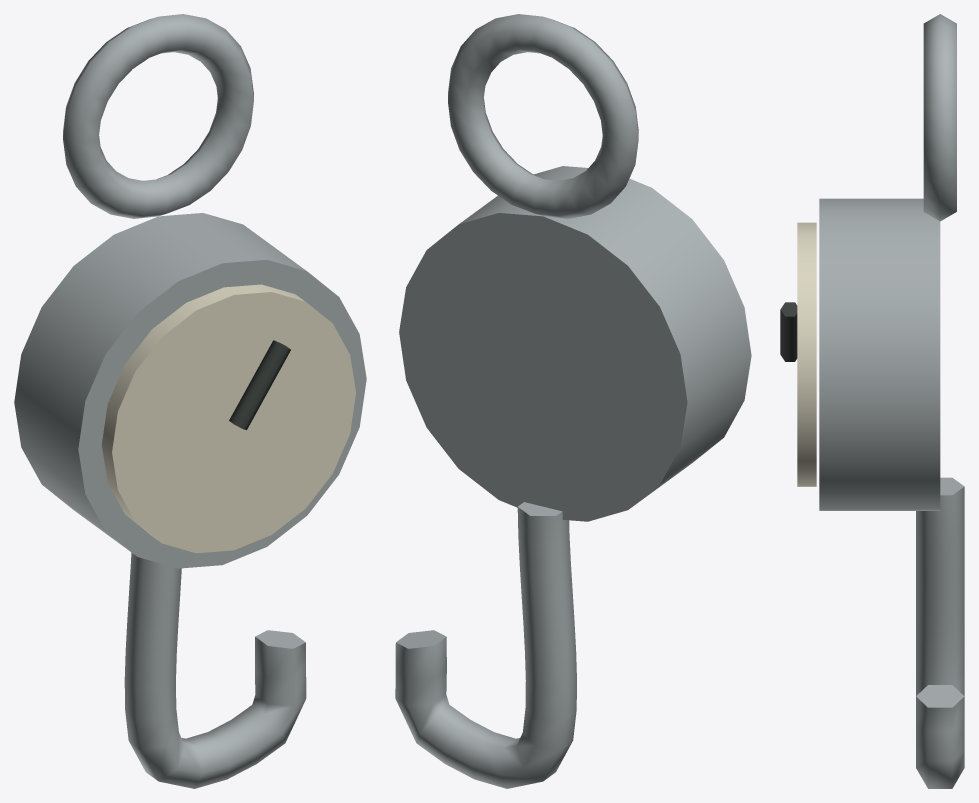
The picture shows the model from 3 angles, left to right: view 1: azimuth 30°, elevation 25°; view 2: azimuth 150°, elevation 25°; view 3: azimuth 270°, elevation 25°; orthographic projection. The views are drawn at different scales.
Parts seen in each view (by area): view 1: spring-hanging-scale; view 2: spring-hanging-scale; view 3: spring-hanging-scale.
Boxes of the visible parts, bbox=[...] form: spring-hanging-scale: bbox=[14, 14, 366, 788]; spring-hanging-scale: bbox=[395, 14, 751, 788]; spring-hanging-scale: bbox=[780, 14, 964, 788].
Bounding box in the file's own units: 0.13 × 0.3337 × 0.076.
